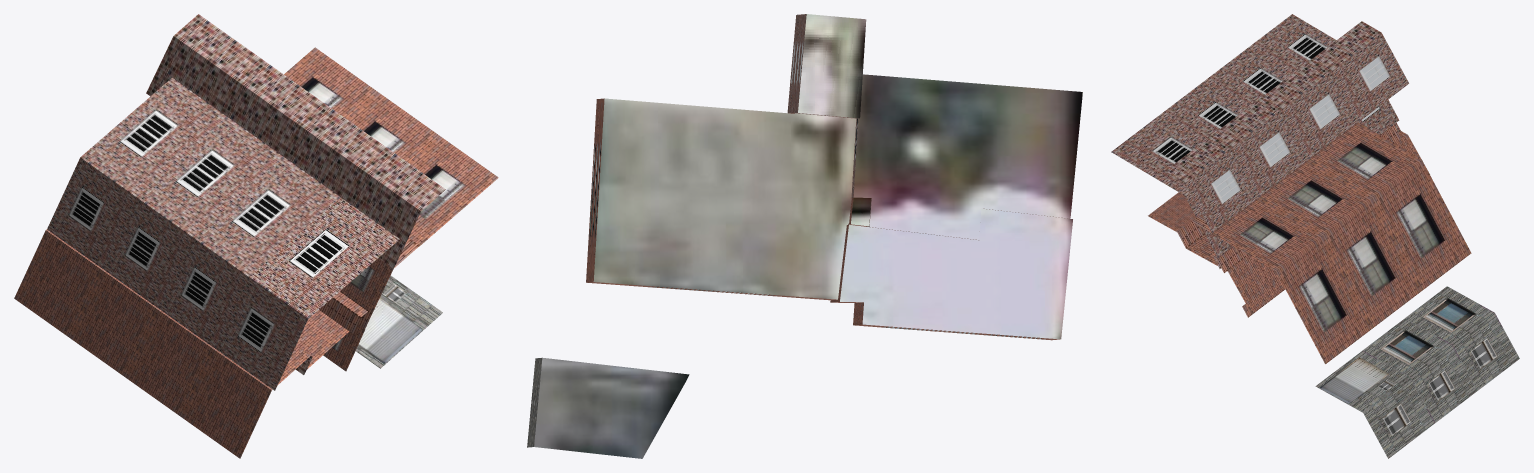
The picture shows the model from 3 angles, left to right: view 1: azimuth 30°, elevation 25°; view 2: azimuth 150°, elevation 25°; view 3: azimuth 270°, elevation 25°; orthographic projection. The views are drawn at different scales.
Bounding box in the file's own units: 22.21 × 19.98 × 22.05.
22 materials, 22 textured.
